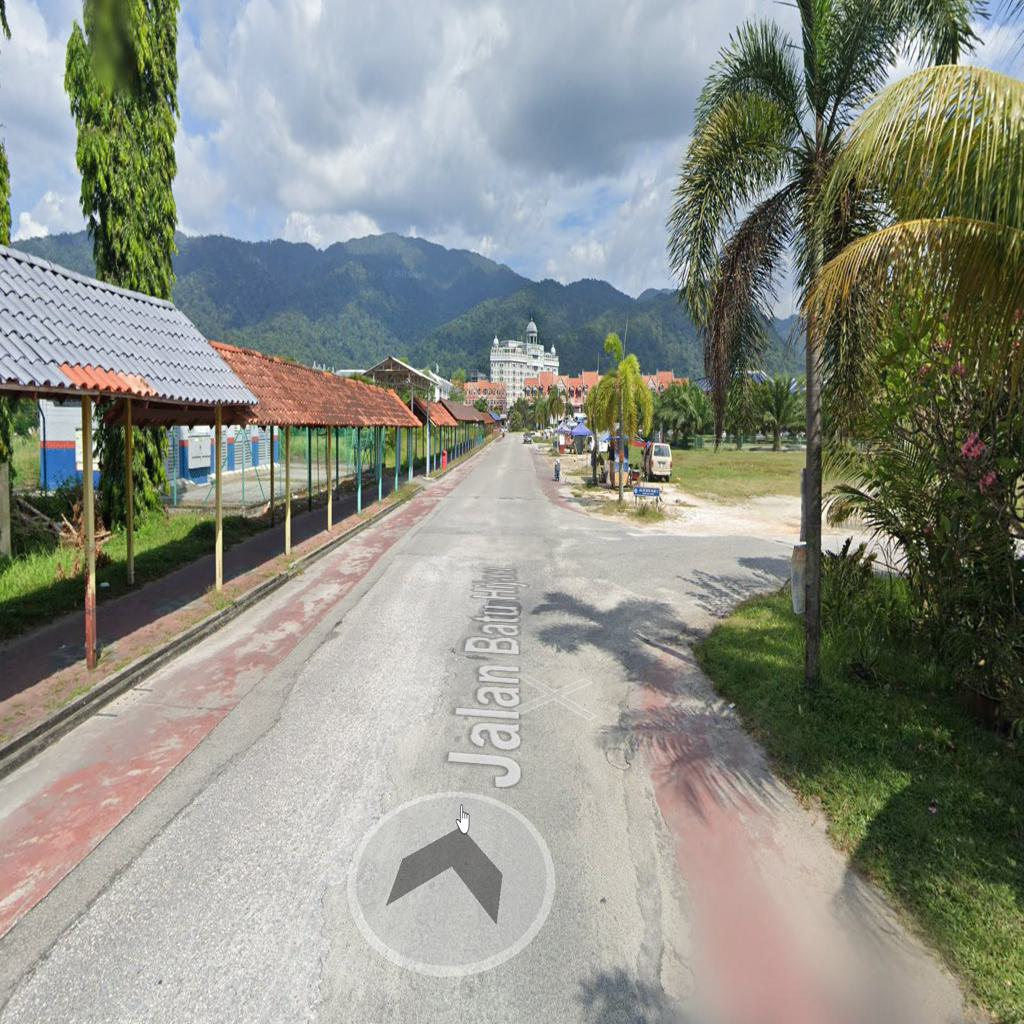Junction: (565, 478, 795, 720)
